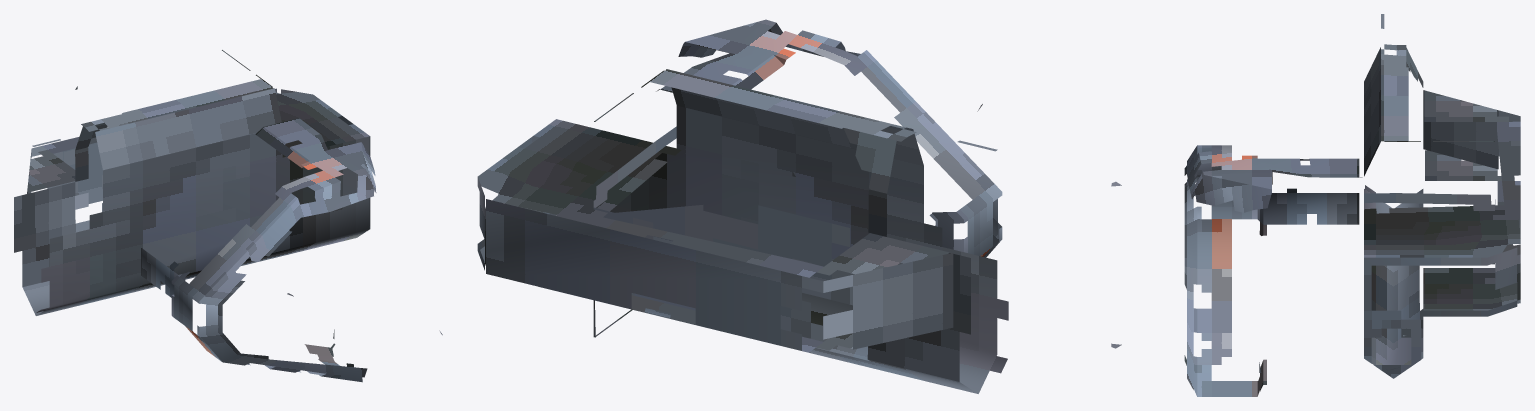
The model's file is eqp_motor_small_s02_l2.fbx.
The picture shows the model from 3 angles, left to right: view 1: azimuth 30°, elevation 25°; view 2: azimuth 150°, elevation 25°; view 3: azimuth 270°, elevation 25°; orthographic projection. The views are drawn at different scales.
Visible parts, largest first — view 1: mesh_node; view 2: mesh_node; view 3: mesh_node.
Part boxes in pixels (<box>): mesh_node: <box>14,50,442,382</box>; mesh_node: <box>477,19,1008,393</box>; mesh_node: <box>1111,14,1520,396</box>.
Size of the model in its own units: 0.3333 by 0.234 by 0.3738.
